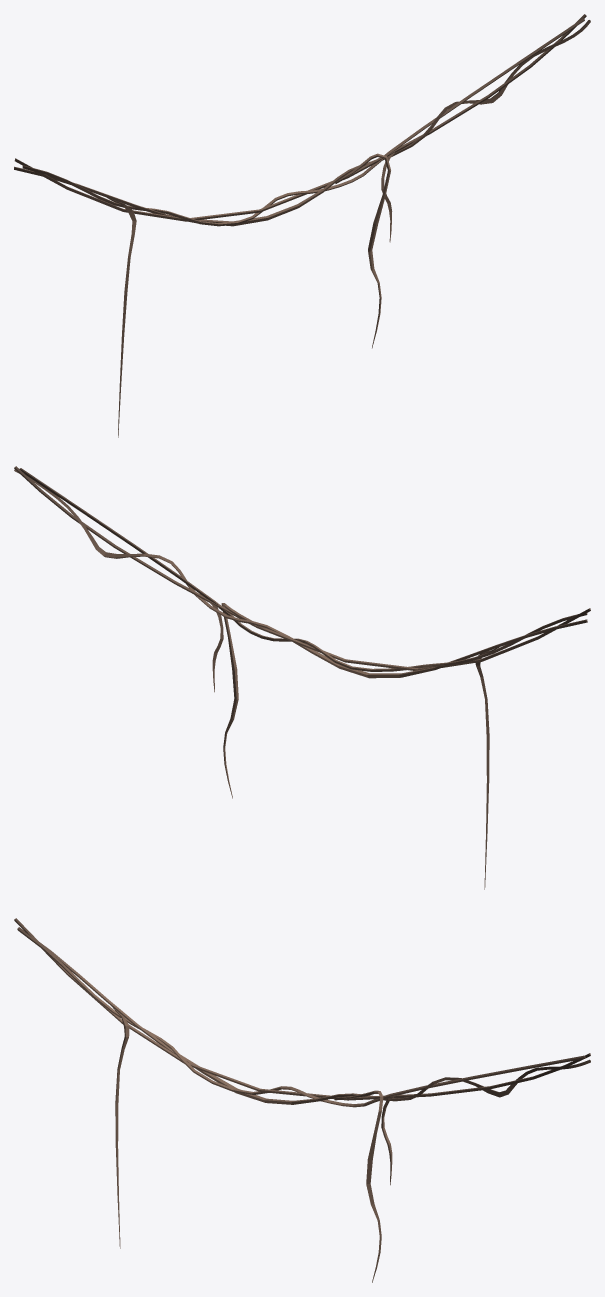
Rendered from Jungle_HangingVines_E.fbx.
The picture shows the model from 3 angles, top to bottom: view 1: azimuth 30°, elevation 25°; view 2: azimuth 150°, elevation 25°; view 3: azimuth 330°, elevation 25°; orthographic projection.
Visible parts, largest first — view 1: Jungle_HangingVines_E; view 2: Jungle_HangingVines_E; view 3: Jungle_HangingVines_E.
Boxes of the visible parts, bbox=[...] form: Jungle_HangingVines_E: bbox=[14, 14, 590, 437]; Jungle_HangingVines_E: bbox=[14, 466, 590, 889]; Jungle_HangingVines_E: bbox=[14, 918, 590, 1282].
Size of the model in its own units: 16.12 by 8.25 by 0.5623.
1 material, 1 textured.
